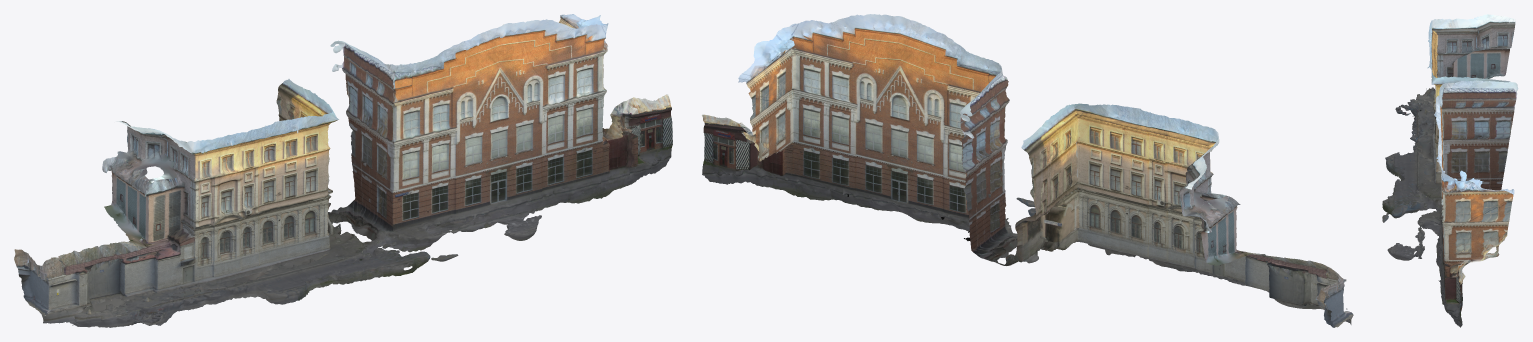
File: semyonovskaya.glb
The picture shows the model from 3 angles, left to right: view 1: azimuth 30°, elevation 25°; view 2: azimuth 150°, elevation 25°; view 3: azimuth 270°, elevation 25°; orthographic projection. The views are drawn at different scales.
Parts seen in each view (by area): view 1: Object_5, Object_3, Object_4, Object_2; view 2: Object_4, Object_5, Object_3, Object_2; view 3: Object_5, Object_4, Object_3, Object_2.
Boxes of the visible parts, x1,y1,x2,y2 form: Object_5: (14, 40, 672, 327); Object_3: (102, 19, 586, 323); Object_4: (138, 14, 634, 325); Object_2: (72, 23, 671, 325); Object_4: (738, 19, 1269, 292); Object_5: (702, 67, 1353, 327); Object_3: (742, 14, 1250, 285); Object_2: (702, 40, 1347, 309); Object_5: (1385, 18, 1518, 327); Object_4: (1382, 64, 1514, 311); Object_3: (1392, 14, 1515, 255); Object_2: (1382, 88, 1499, 292).
Size of the model in its own units: 23.36 by 7.08 by 5.54.
4 materials, 4 textured.
